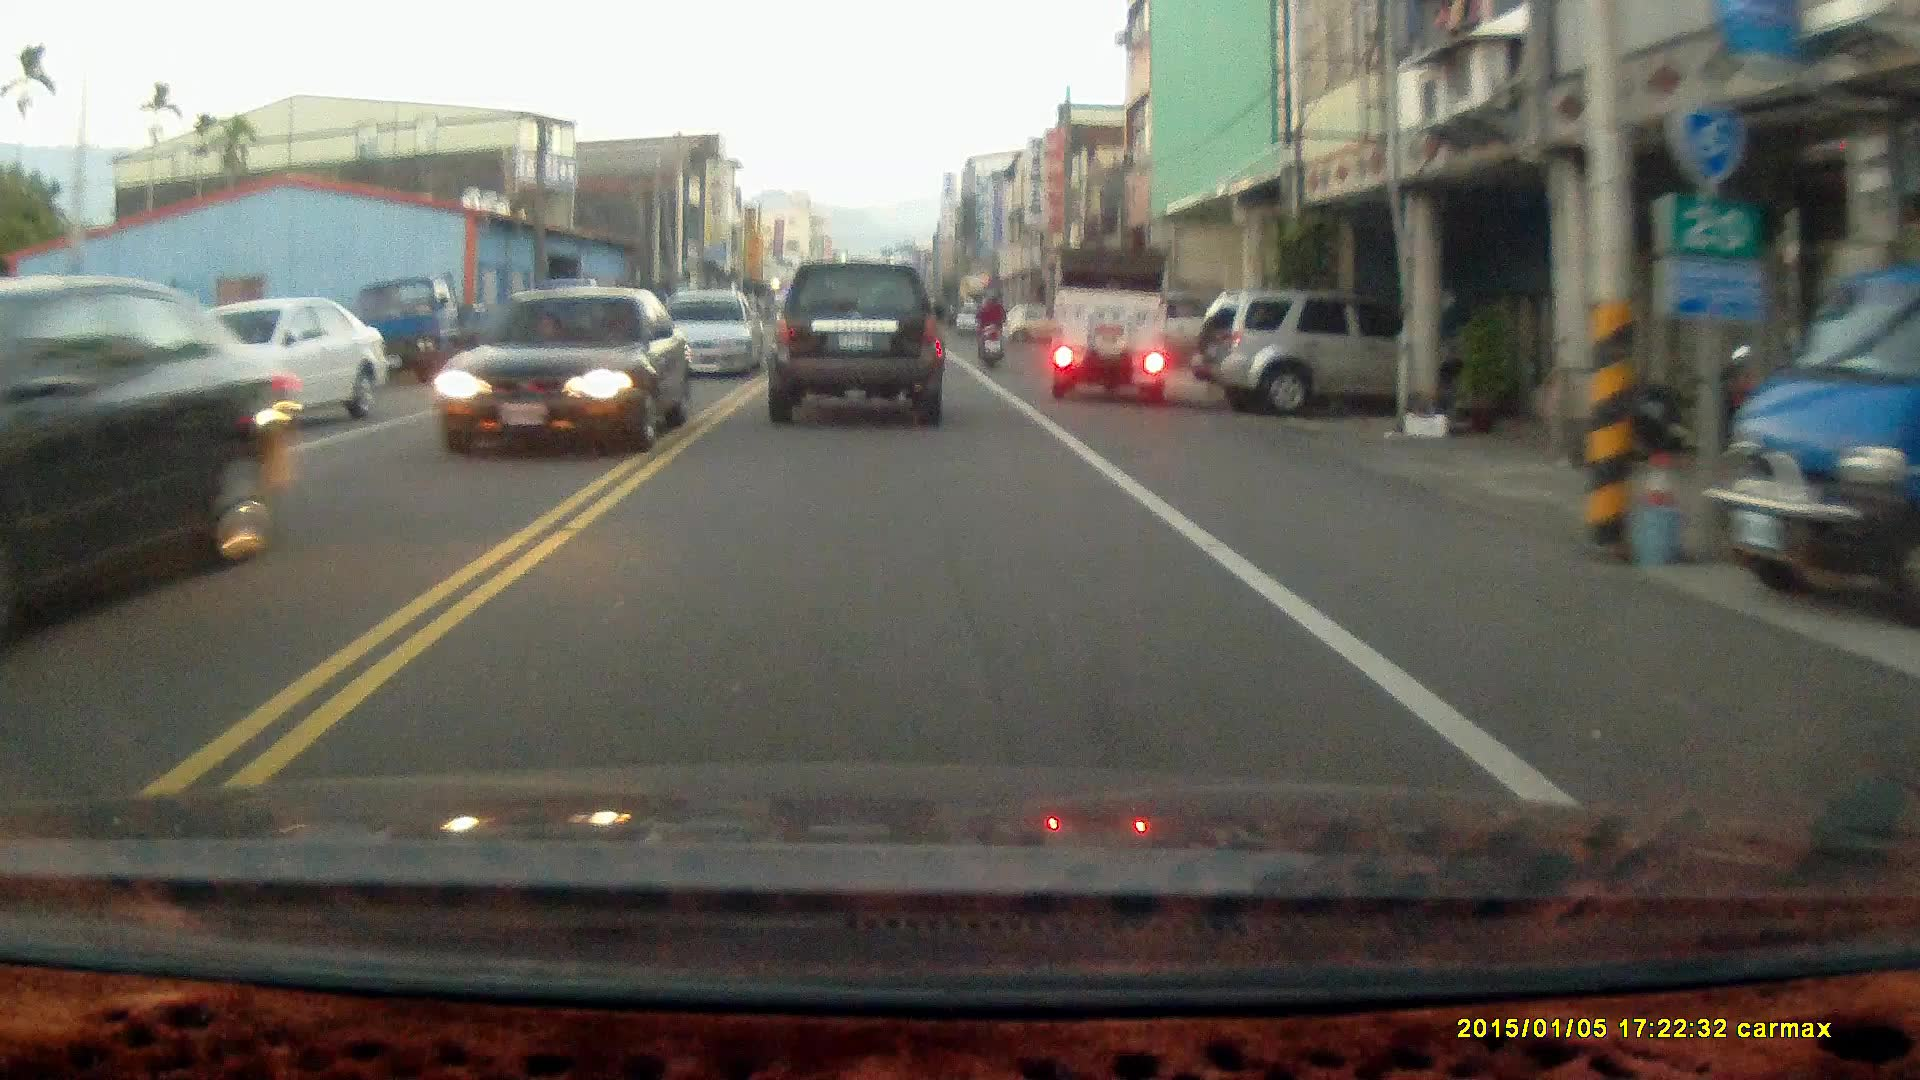rider: (971, 283, 1008, 369)
vehicle: (1, 277, 300, 660), (1707, 215, 1920, 621), (435, 284, 688, 459), (124, 297, 396, 458), (767, 262, 948, 428), (1198, 288, 1418, 416), (1050, 243, 1171, 398), (662, 291, 763, 379)
